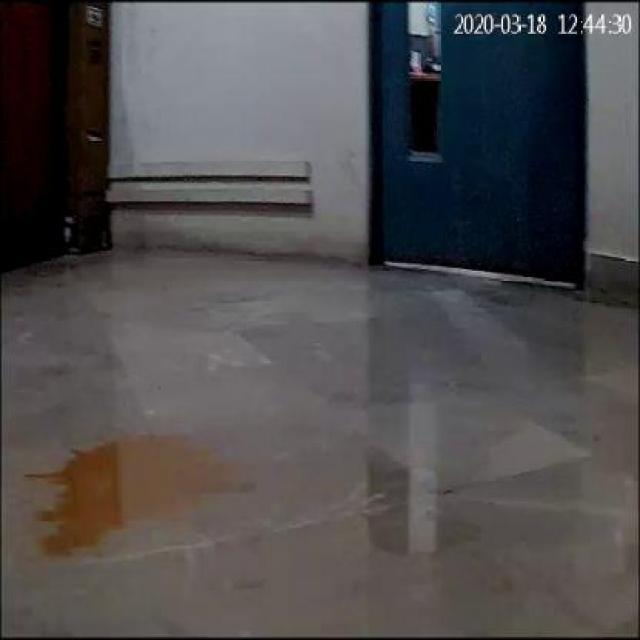spill: (22, 434, 253, 571)
